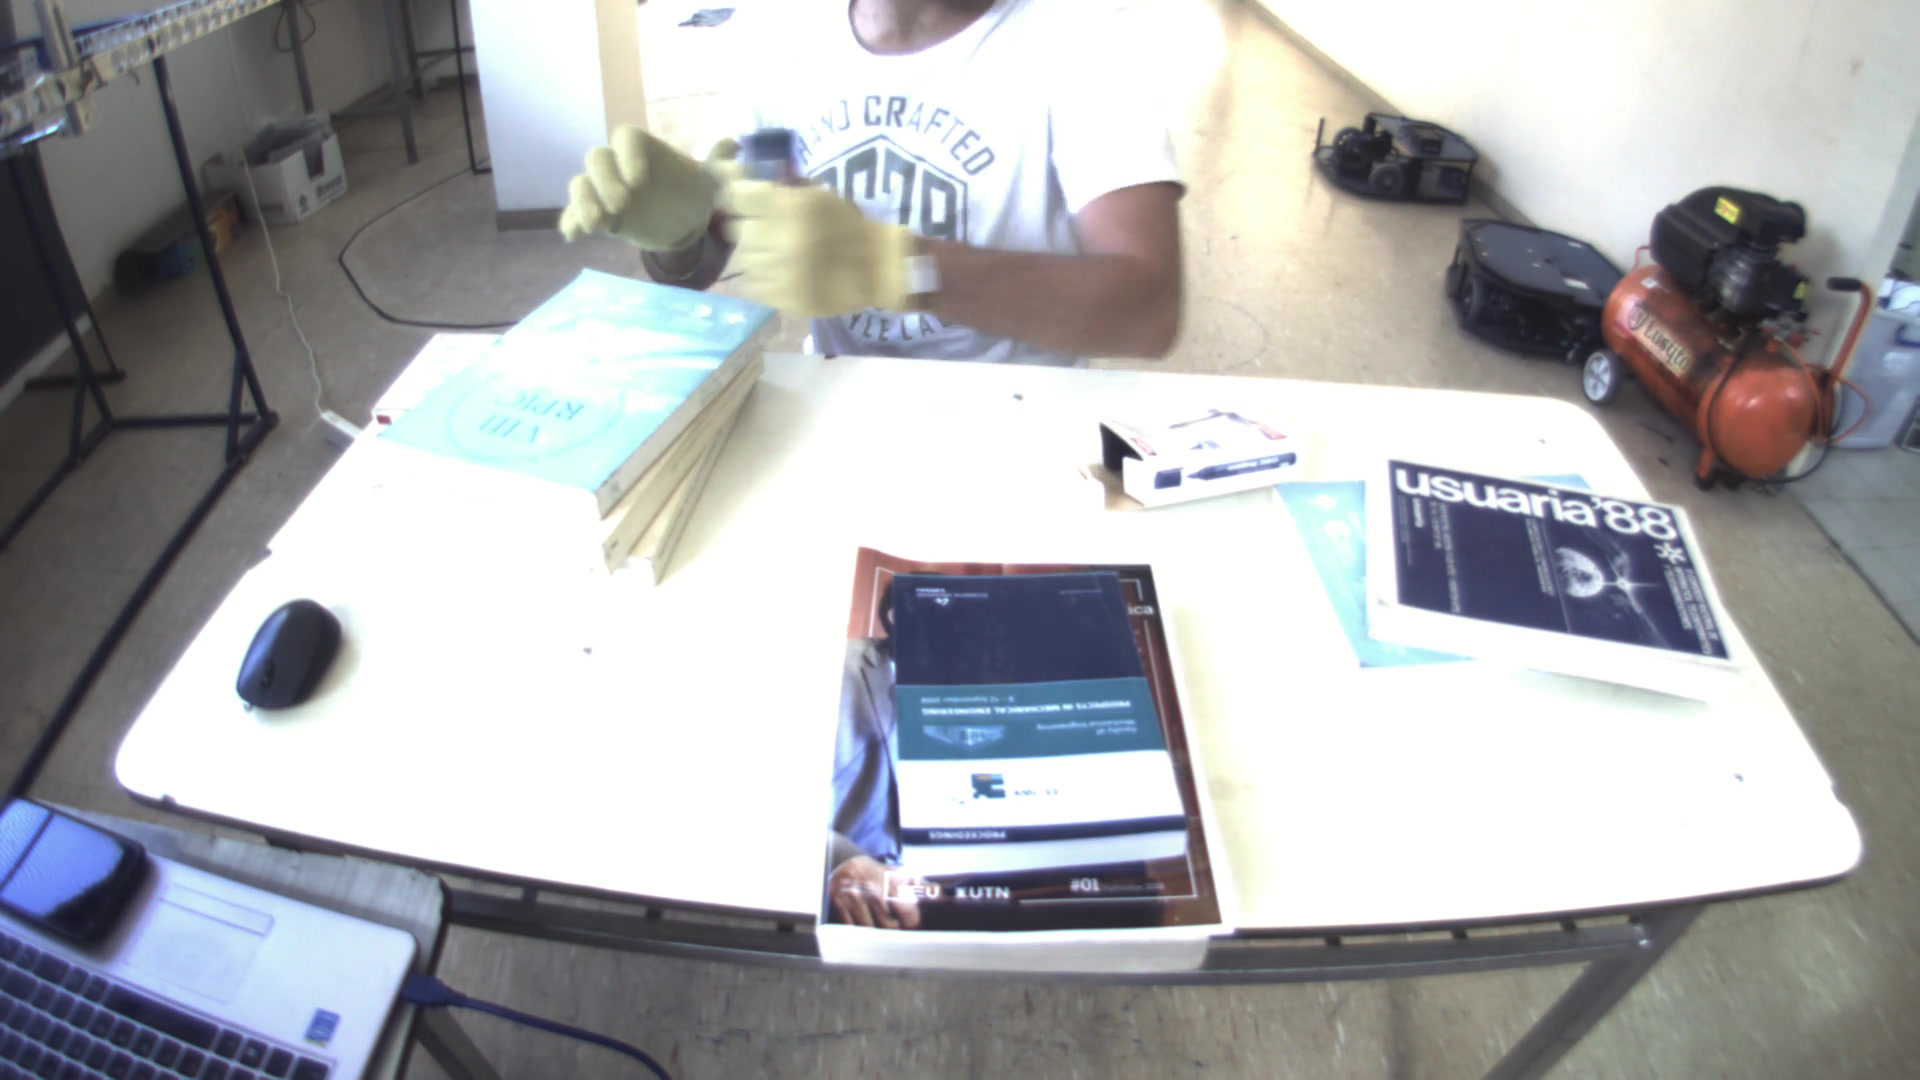hand: (709, 154, 928, 339), (553, 120, 723, 249)
